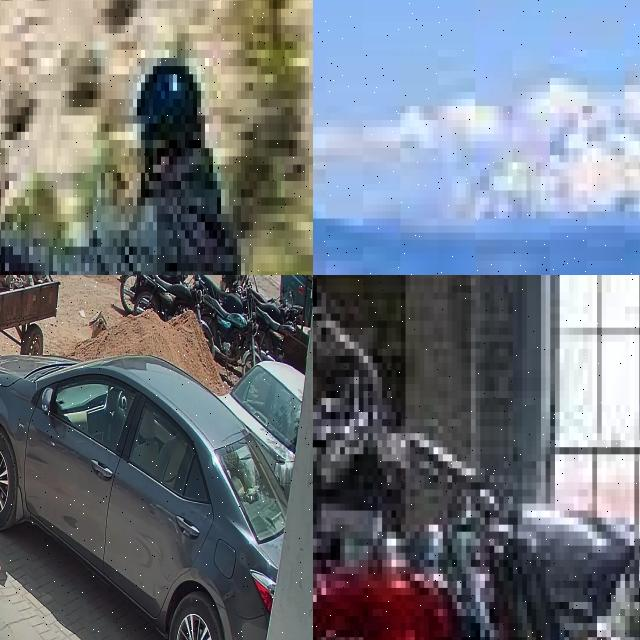bike: (313, 377, 640, 640), (0, 197, 313, 275), (202, 288, 258, 363), (131, 275, 202, 321), (118, 275, 184, 314), (256, 306, 296, 364), (196, 275, 251, 314), (253, 287, 287, 324), (220, 275, 250, 293)
car: (0, 355, 287, 640), (224, 361, 303, 475)
